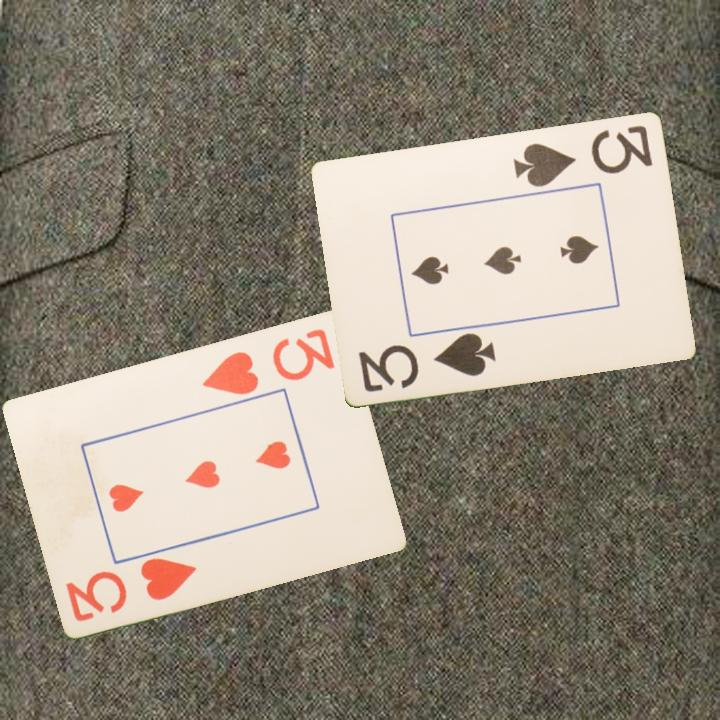3h: (199, 324, 338, 397), (62, 553, 200, 624)
3s: (510, 121, 656, 190), (355, 328, 499, 395)
